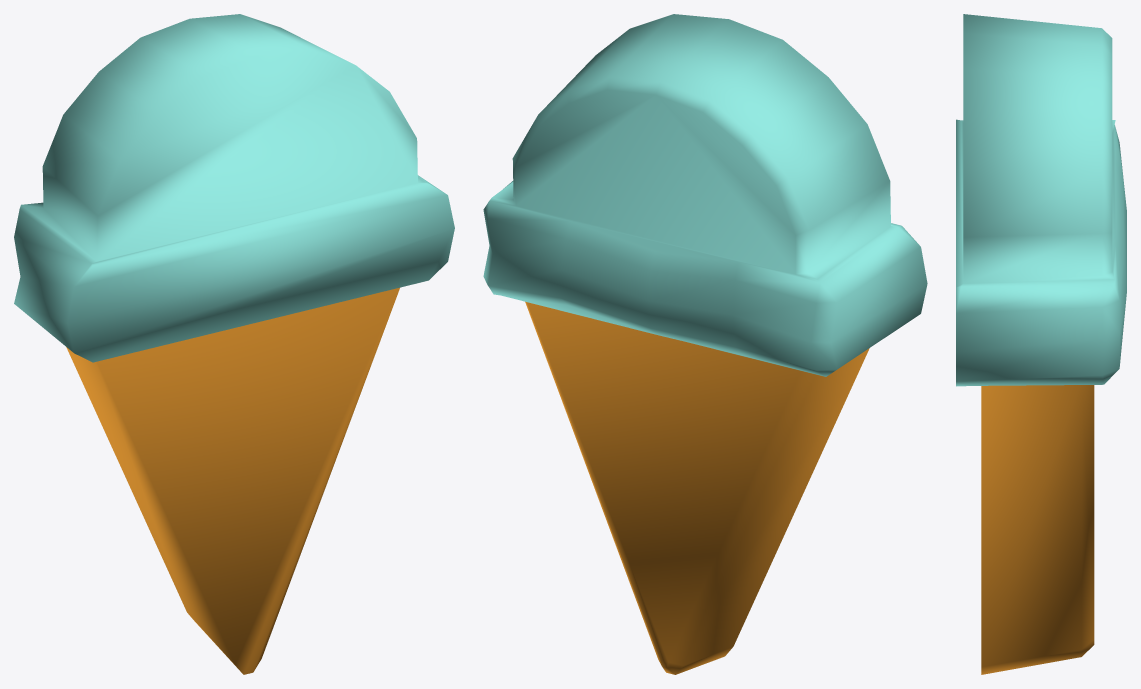
Rendered from IceCreamIcon.fbx.
3 views of the same model, side by side, from view 1: azimuth 30°, elevation 25°; view 2: azimuth 150°, elevation 25°; view 3: azimuth 270°, elevation 25° (orthographic). The views are drawn at different scales.
Visible parts, largest first — view 1: IceCreamIcon; view 2: IceCreamIcon; view 3: IceCreamIcon.
Part boxes in pixels (box(x1,y1,x2,y2)): IceCreamIcon: box(14, 14, 454, 674); IceCreamIcon: box(483, 14, 927, 674); IceCreamIcon: box(956, 14, 1126, 674).
Size of the model in its own units: 184 by 284 by 68.71.
